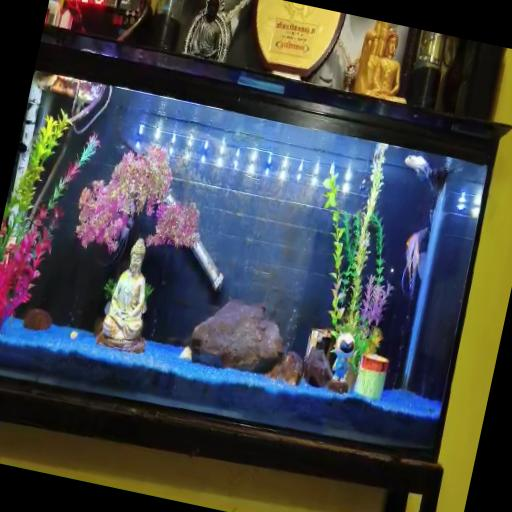Fish: (403, 155, 456, 193), (401, 227, 427, 298)
